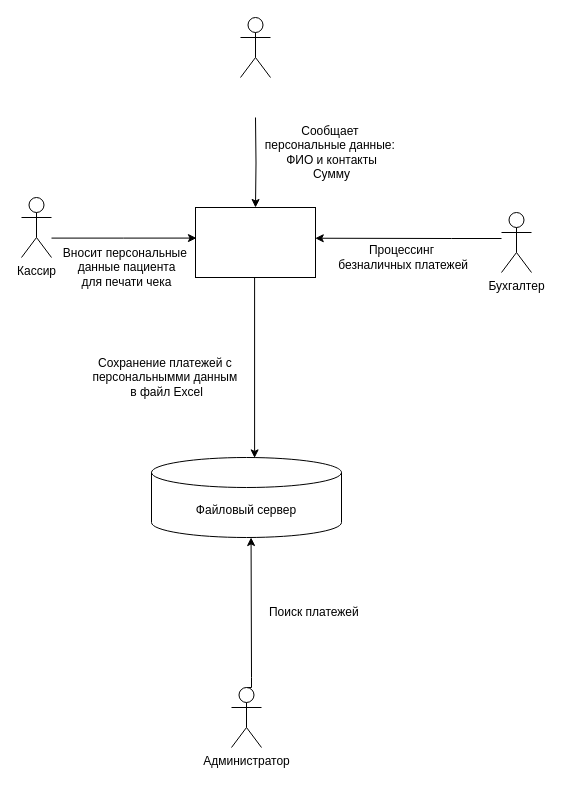
Some shapes in this 562 by 786 pixel diagram are drawn without their labels. The box of each missing label's shape, as (x1, y1, x2, y2) in pixels:
Касса 1С + ККМ: (194, 206, 316, 278)
Пациент: (240, 16, 270, 78)
